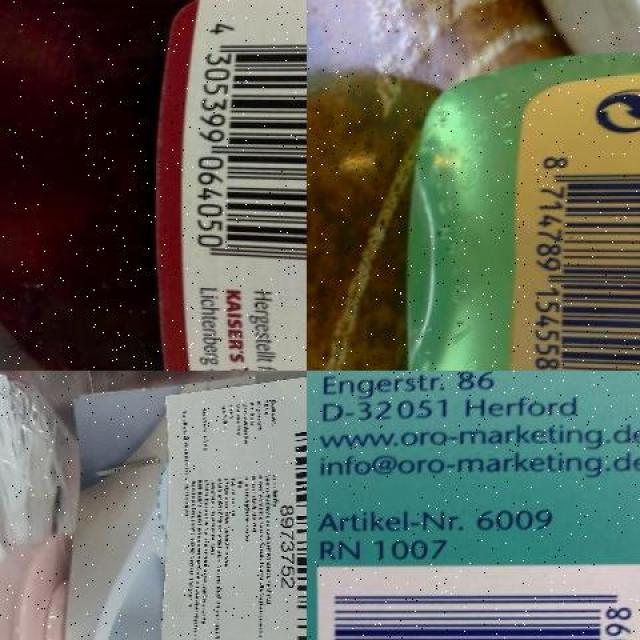Barcode: (182, 10, 306, 274), (518, 144, 640, 370), (310, 564, 640, 640), (278, 421, 306, 640)
